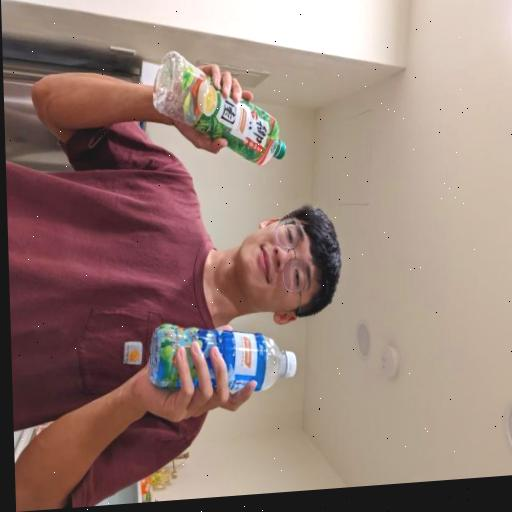bottle: (142, 15, 319, 197), (131, 312, 301, 419)
